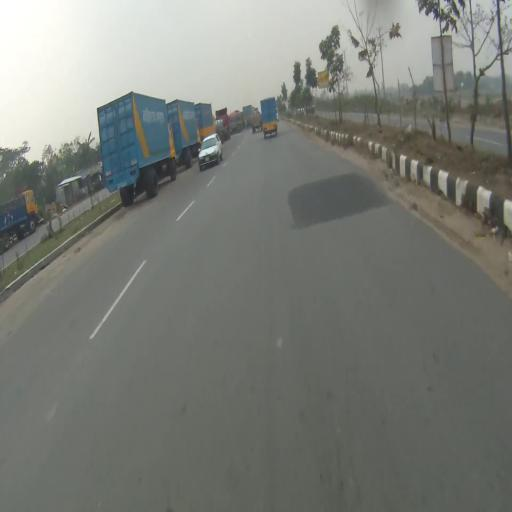car: (200, 135, 223, 171), (278, 109, 280, 122)
pickup: (99, 95, 178, 202), (170, 101, 201, 168), (261, 98, 278, 139)
truck: (2, 192, 41, 252), (230, 111, 244, 134)
